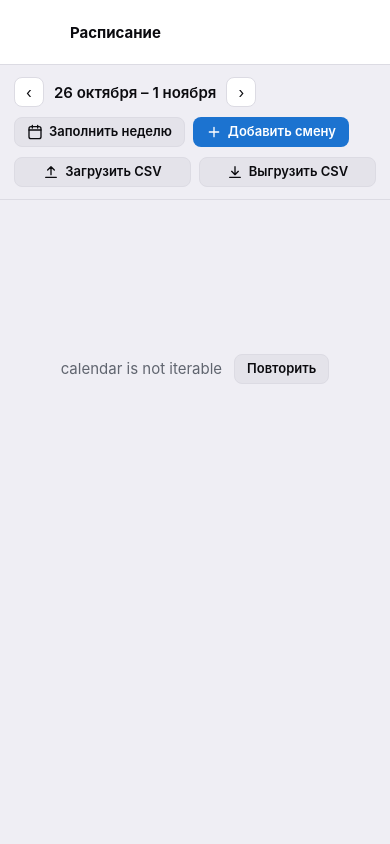
«Заполнить неделю» в консоли › «Отмена» закрывает панель без запроса
Step 1. Click the button "Заполнить неделю" → (99,132), box [14, 117, 185, 147]
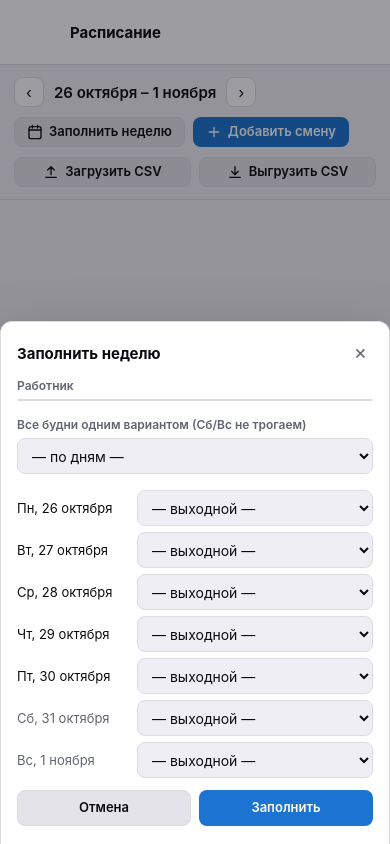
Step 2. Click the button "Отмена" → (104,808), box [17, 790, 191, 826]
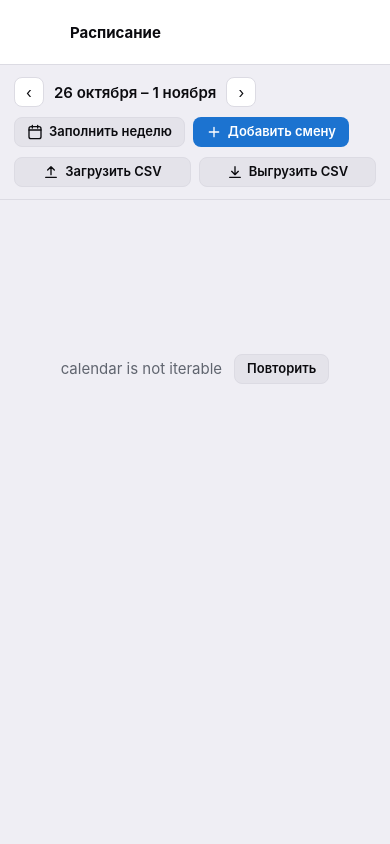
Expected: the element with class "fill-week-panel" is gone
